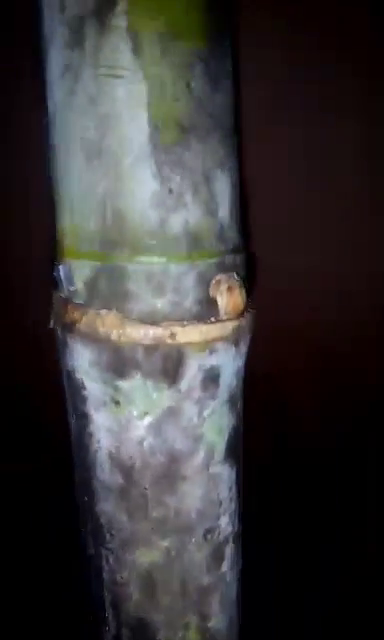cane eye: (195, 263, 256, 331)
